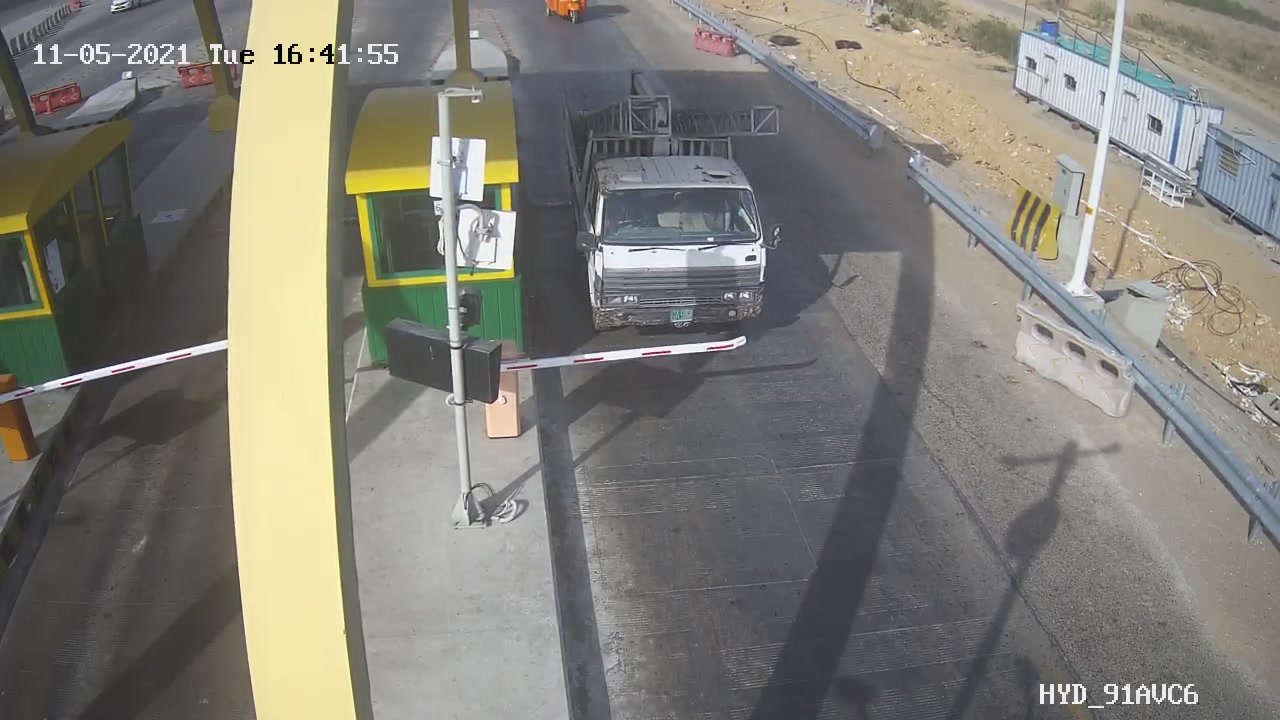F3: (542, 62, 808, 355)
